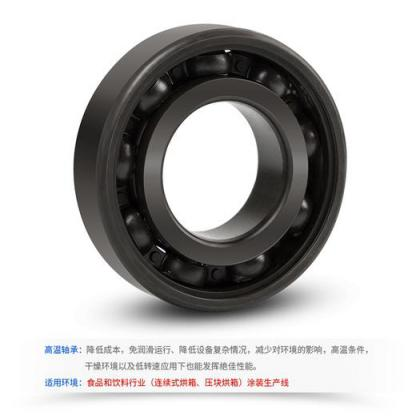FOD: (67, 20, 354, 316)
